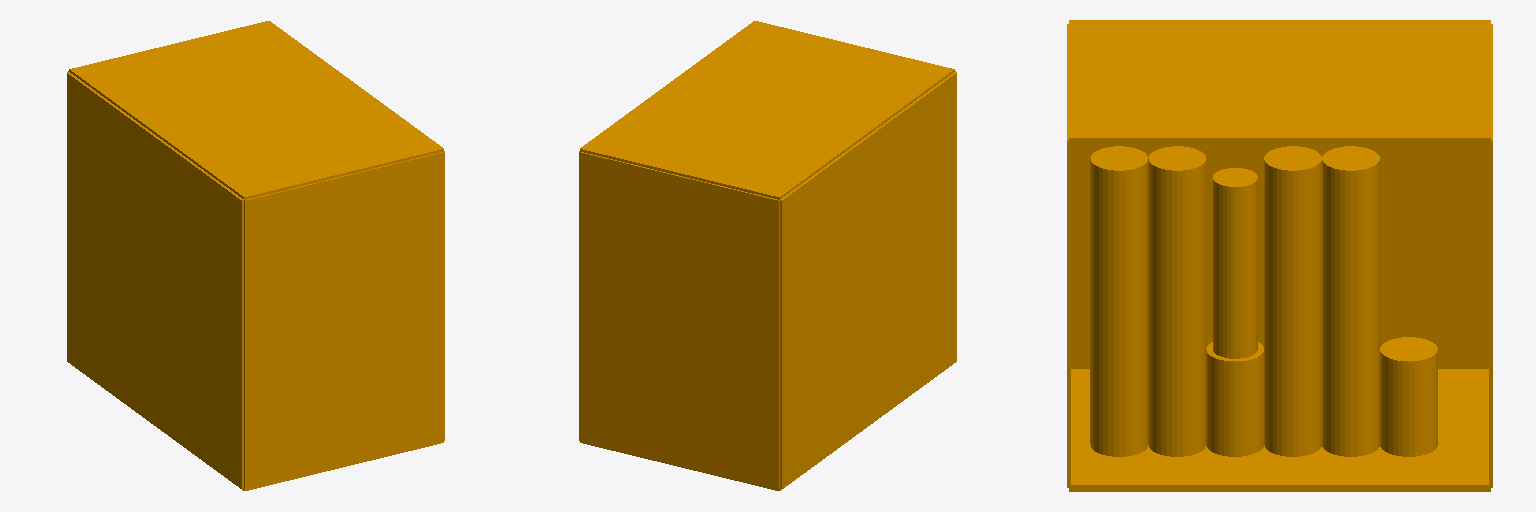
URDF robot description (syn_can_cabinet_packed_uniform_166):
<?xml version="1.0" ?>
<robot name="syn_can_cabinet_packed_uniform_166">
    <link concave="yes" name="base_link">
        <inertial>
            <origin rpy="0 0 0" xyz="0 0 0"/>
            <mass value="0.0"/>
            <inertia ixx="1e-08" ixy="0" ixz="0" iyy="1e-08" iyz="0" izz="1e-08"/>
        </inertial>
        <visual>
            <origin xyz="0 0 0" rpy="0 0 0" />
            <geometry>
                <mesh filename="syn_can_cabinet_packed_uniform_166.obj" scale="1.000000 1.000000 1.000000"/>
            </geometry>         
        </visual>

        <collision concave="yes">
            <origin xyz="0 0 0" rpy="0 0 0"/>
            <geometry>
                <mesh filename="syn_can_cabinet_packed_uniform_166.obj" scale="1.000000 1.000000 1.000000"/>
            </geometry>
        </collision>
    </link>
</robot>
    

--- Render facts (derived) ---
Views: 3 orthographic renders of the robot side by side, from view 1: azimuth 30°, elevation 25°; view 2: azimuth 150°, elevation 25°; view 3: azimuth 270°, elevation 25°.
Robot: syn_can_cabinet_packed_uniform_166 — 1 links, 0 joints (none); root link base_link; default pose: every joint at zero.
Visible links, largest first — view 1: base_link; view 2: base_link; view 3: base_link.
Link boxes in pixels (x1,y1,x2,y2): base_link: (67, 21, 444, 490); base_link: (579, 21, 956, 490); base_link: (1067, 20, 1492, 491).
Size in the robot's own frame: 0.2064 by 0.3123 by 0.2864 metres.
Meshes: 1 distinct files referenced, 1 mesh visuals loaded (1 OBJ).
